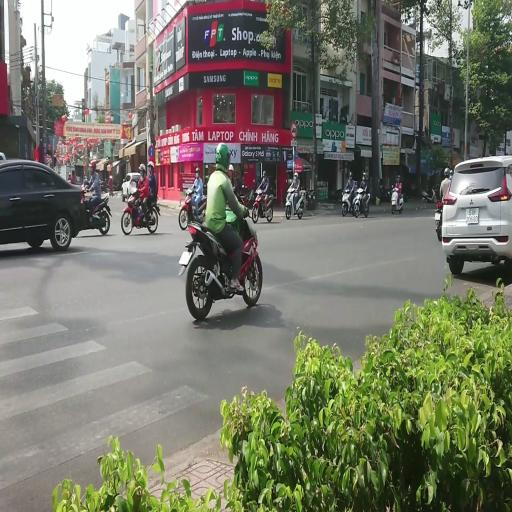bikes: (178, 210, 263, 320), (120, 188, 158, 234), (80, 183, 111, 235), (341, 172, 370, 218), (178, 186, 207, 230), (252, 187, 274, 223), (285, 184, 305, 220), (121, 172, 141, 202), (341, 183, 358, 216), (352, 186, 370, 217), (241, 178, 259, 207), (389, 184, 404, 214), (234, 190, 249, 220), (232, 184, 250, 207), (434, 200, 443, 240), (421, 185, 438, 206), (304, 188, 315, 208), (362, 192, 370, 216), (99, 178, 109, 193)
helmet: (214, 143, 230, 170), (138, 163, 146, 174), (130, 184, 137, 194), (148, 161, 154, 171), (444, 168, 450, 176), (228, 164, 234, 172), (90, 161, 96, 168), (186, 188, 192, 195), (262, 170, 267, 178), (195, 167, 200, 174), (397, 183, 402, 190), (83, 177, 88, 184), (287, 179, 292, 185), (362, 172, 366, 179), (360, 181, 364, 188), (126, 174, 130, 181), (294, 172, 298, 178), (395, 181, 399, 187), (435, 184, 439, 190), (205, 175, 208, 182), (109, 174, 113, 179), (349, 172, 352, 178), (450, 170, 453, 176), (391, 184, 394, 190), (253, 178, 256, 184), (397, 175, 400, 180), (68, 172, 70, 176)
